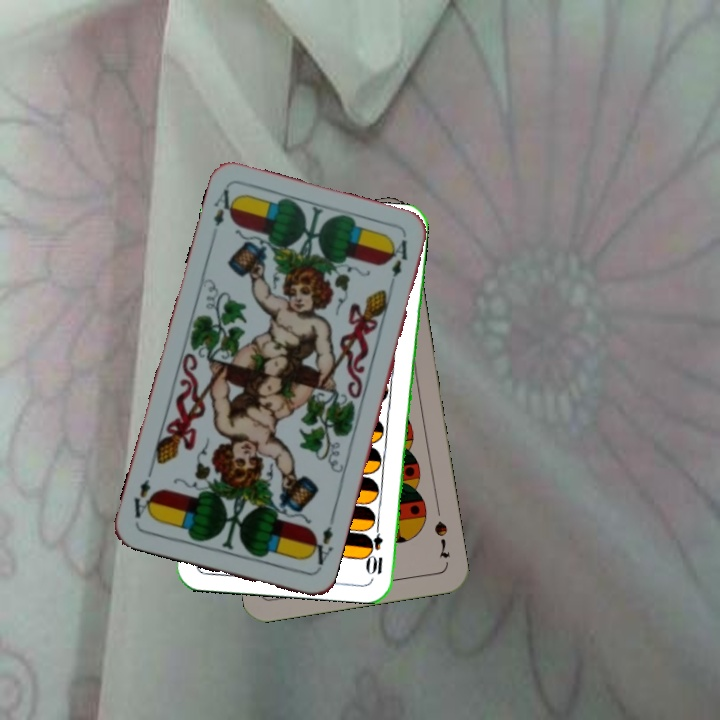E10: (368, 518, 385, 577)
EA: (304, 514, 337, 573), (209, 185, 240, 229)
S7: (430, 517, 453, 561)
